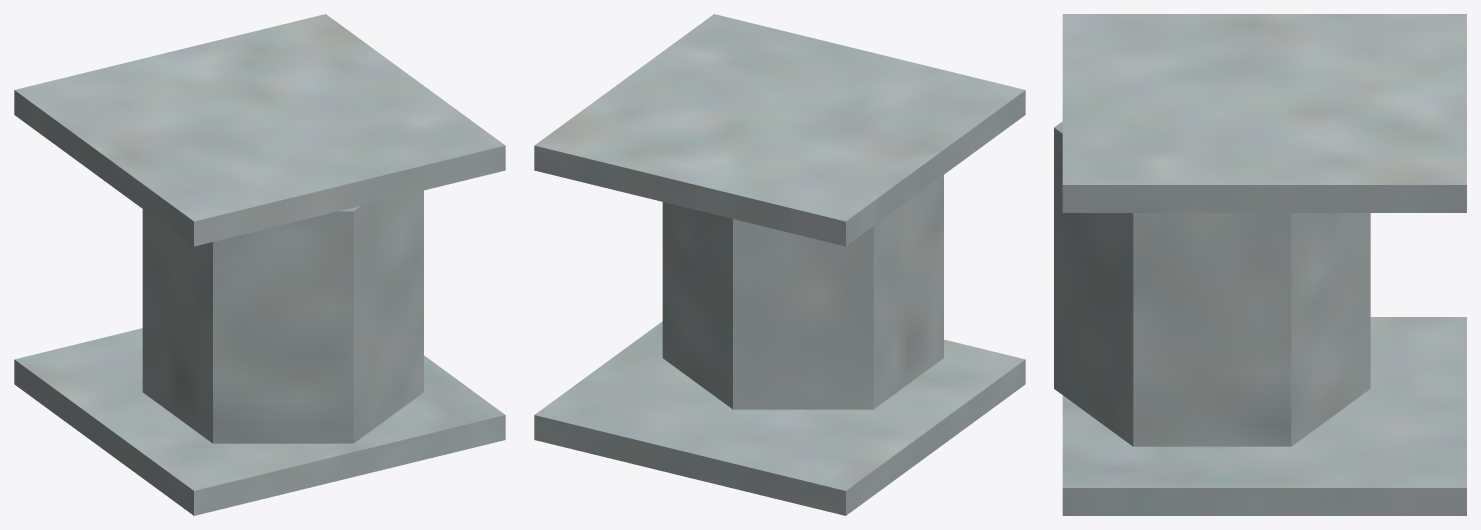
File: communication_clamp_1.glb
The picture shows the model from 3 angles, left to right: view 1: azimuth 30°, elevation 25°; view 2: azimuth 150°, elevation 25°; view 3: azimuth 270°, elevation 25°; orthographic projection. The views are drawn at different scales.
Parts seen in each view (by area): view 1: communication_clamp_1; view 2: communication_clamp_1; view 3: communication_clamp_1.
Boxes of the visible parts, bbox=[...] form: communication_clamp_1: bbox=[14, 14, 505, 515]; communication_clamp_1: bbox=[534, 14, 1025, 515]; communication_clamp_1: bbox=[1054, 14, 1466, 515].
Bounding box in the file's own units: 0.08 × 0.0723 × 0.0816.
1 material, 1 textured.
